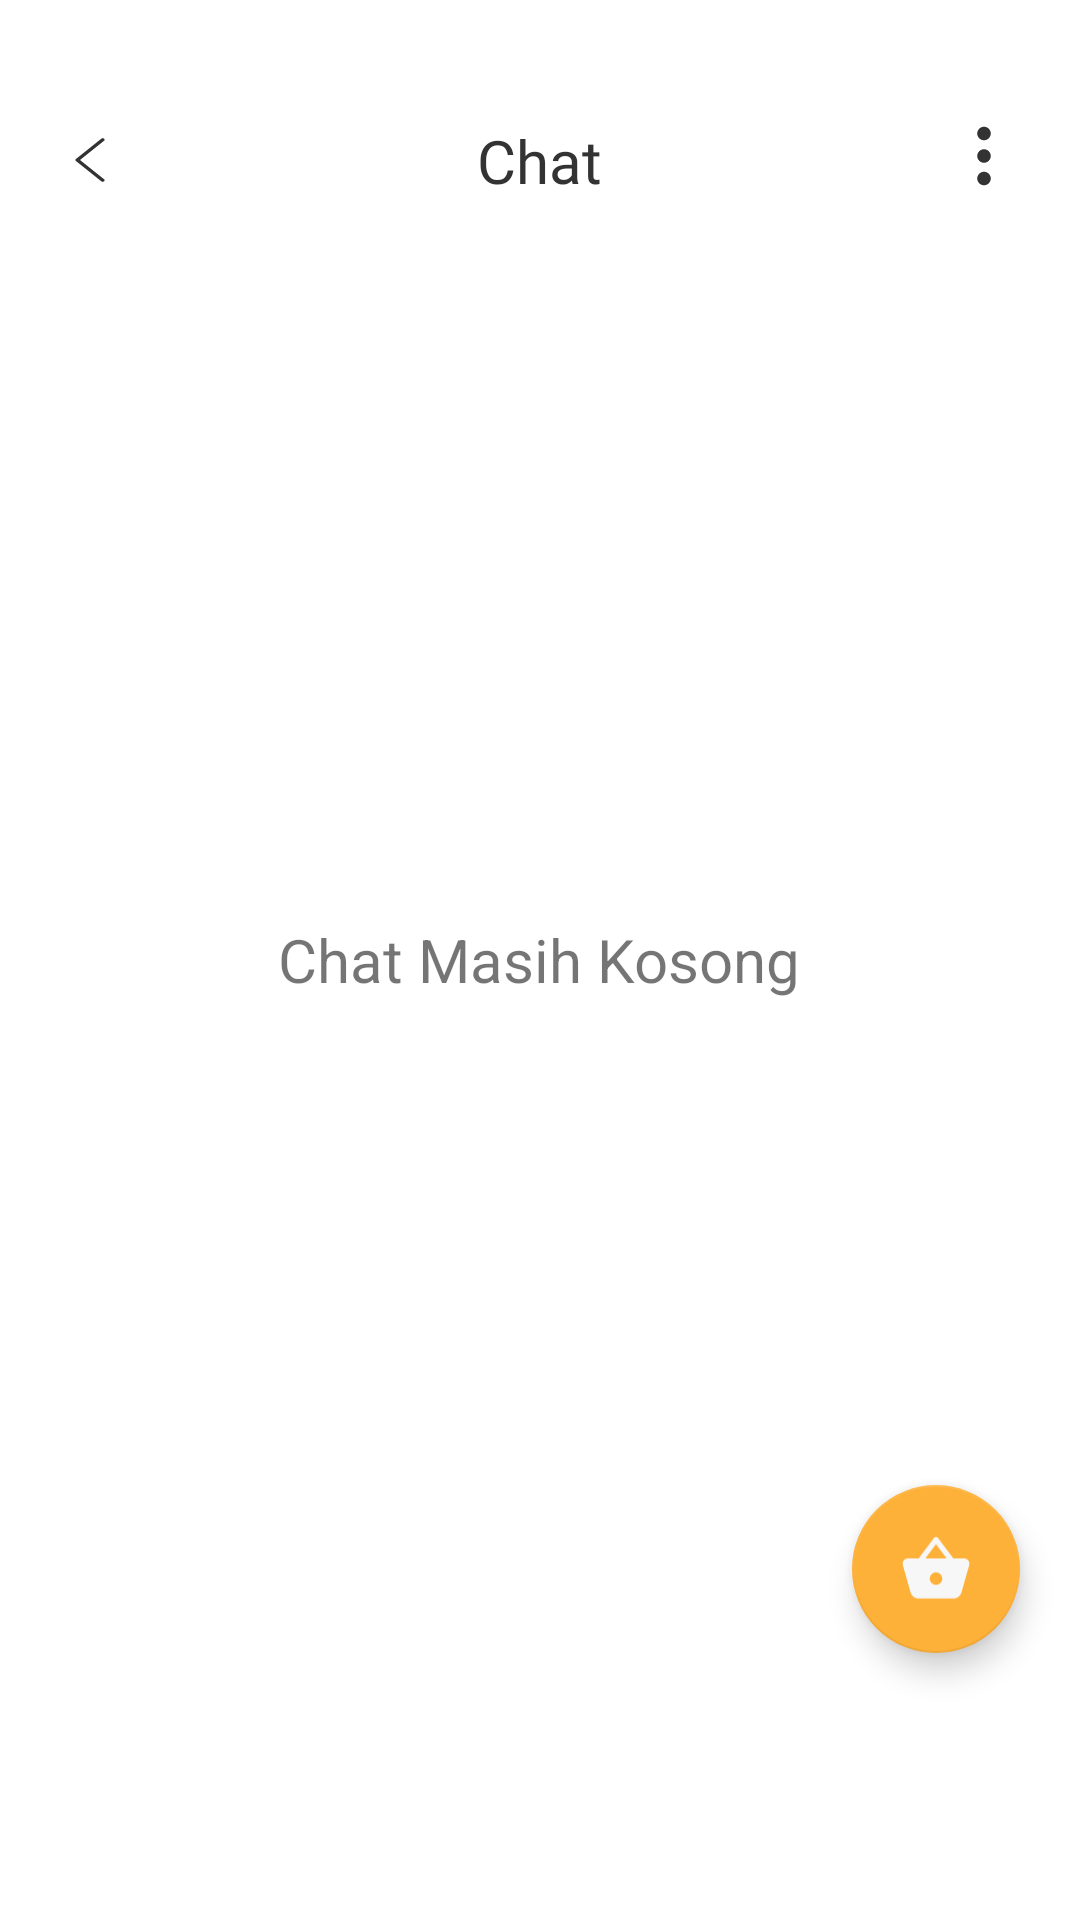

Icon bounding boxes for this 1080×1920 phone screenshot, format detection(x1, y1, x2, y2):
backl: detection(75, 138, 105, 182)
ellipsis vertical: detection(977, 126, 991, 186)
keranjang: detection(852, 1485, 1020, 1653)
